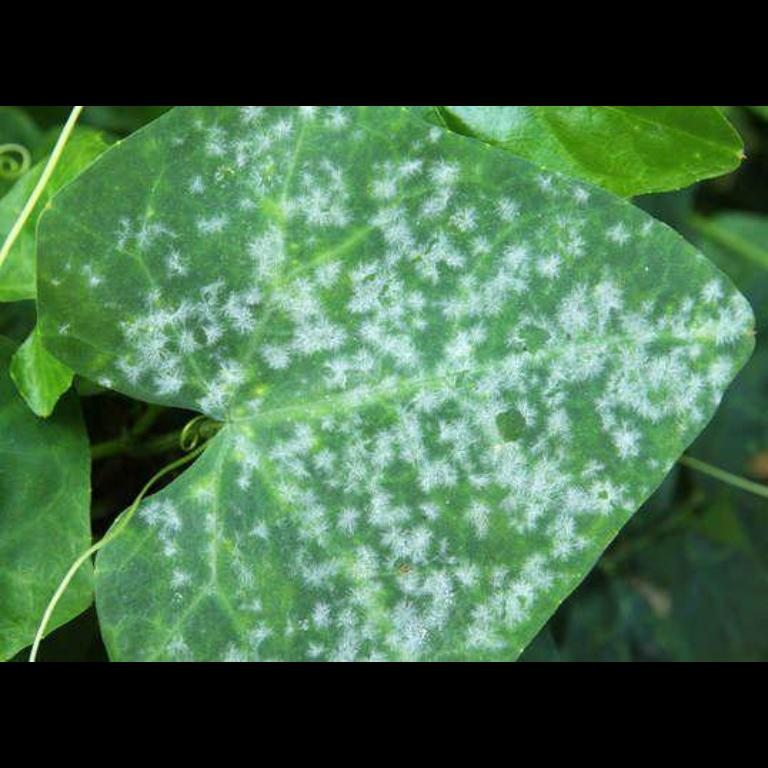powdery-mildew: (195, 134, 514, 358), (239, 389, 515, 635), (527, 234, 725, 450)
